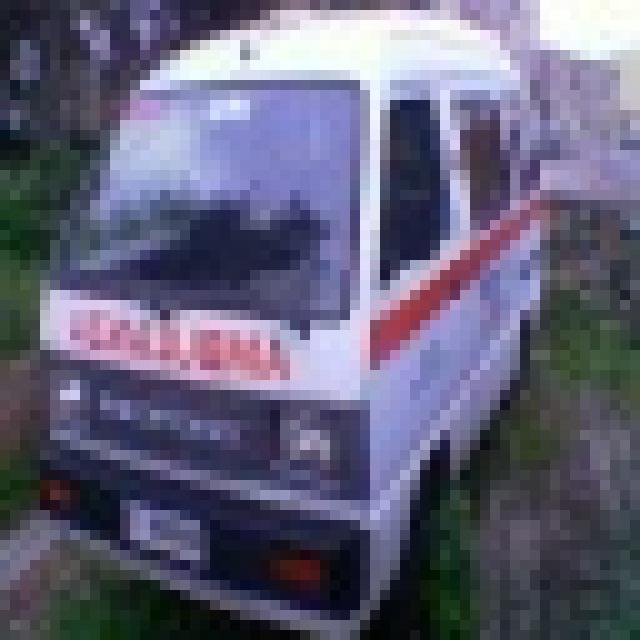ambulance: (30, 0, 550, 630)
